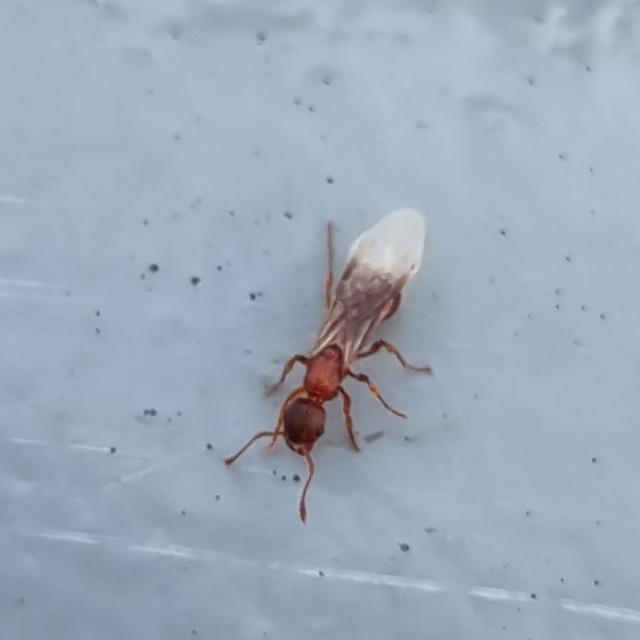Myrmica: (232, 202, 436, 498)
